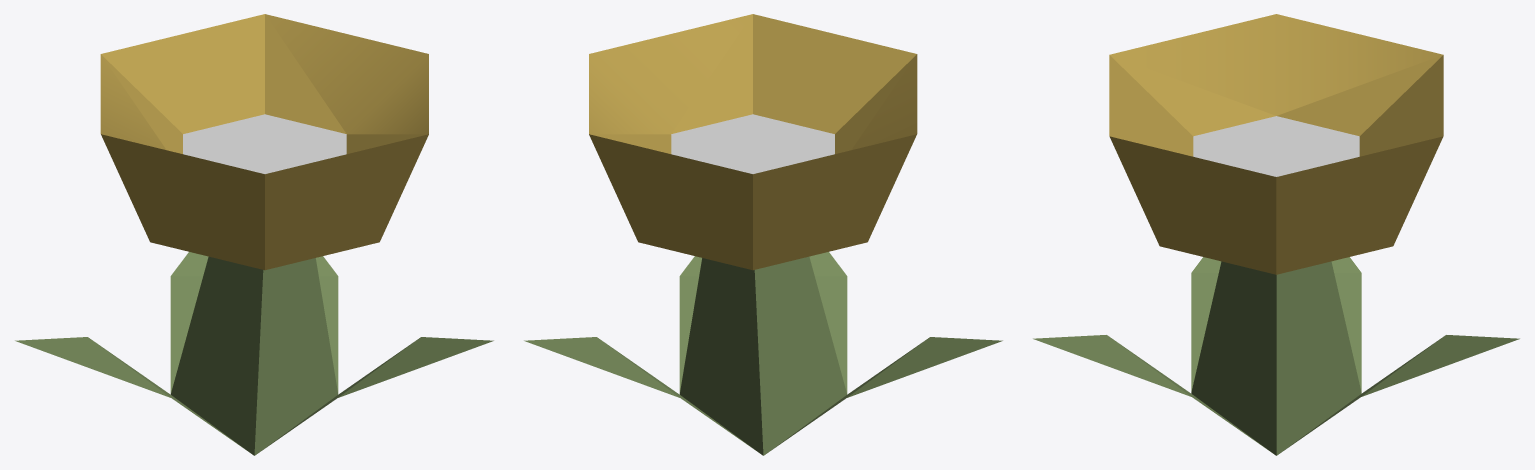
The model's file is flowers.glb.
The picture shows the model from 3 angles, left to right: view 1: azimuth 30°, elevation 25°; view 2: azimuth 150°, elevation 25°; view 3: azimuth 270°, elevation 25°; orthographic projection.
Visible parts, largest first — view 1: Yellow flowers; view 2: Yellow flowers; view 3: Yellow flowers.
Boxes of the visible parts, x1,y1,x2,y2 form: Yellow flowers: [15, 14, 493, 455]; Yellow flowers: [524, 14, 1002, 455]; Yellow flowers: [1033, 14, 1519, 455].
Bounding box in the file's own units: 0.8859 × 0.65 × 0.8882.
